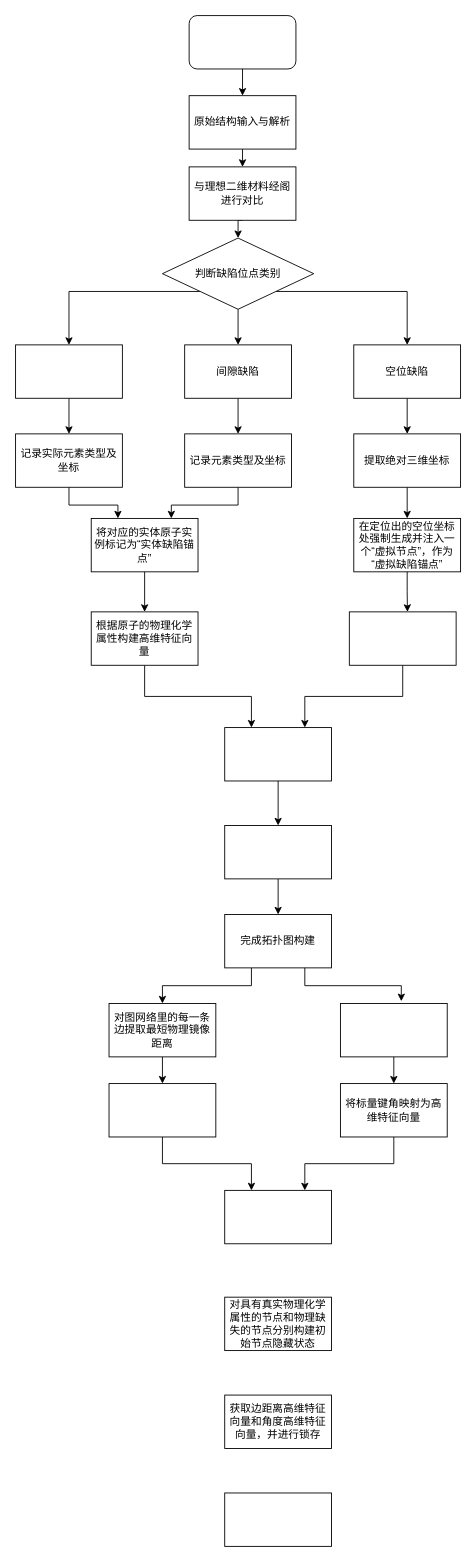
This 476x1562 diagram has some shape labels left out. Here are the shapes that lost their labels. From the top down, the centre of each, then its label:
At (x=242, y=42): "开始".
At (x=68, y=371): "替位/掺杂缺陷".
At (x=402, y=638): "赋予特定的可学习物理嵌入向量".
At (x=278, y=754): "最小镜像邻居搜索".
At (x=278, y=852): "显式构建周期连接边与自连接边".
At (x=393, y=1030): "遍历图结构，识别三元组，计算局域键角".
At (x=162, y=1110): "将标量距离映射展开为高维特征向量".
At (x=278, y=1216): "完成高阶几何特征的非线性投影与编码".
